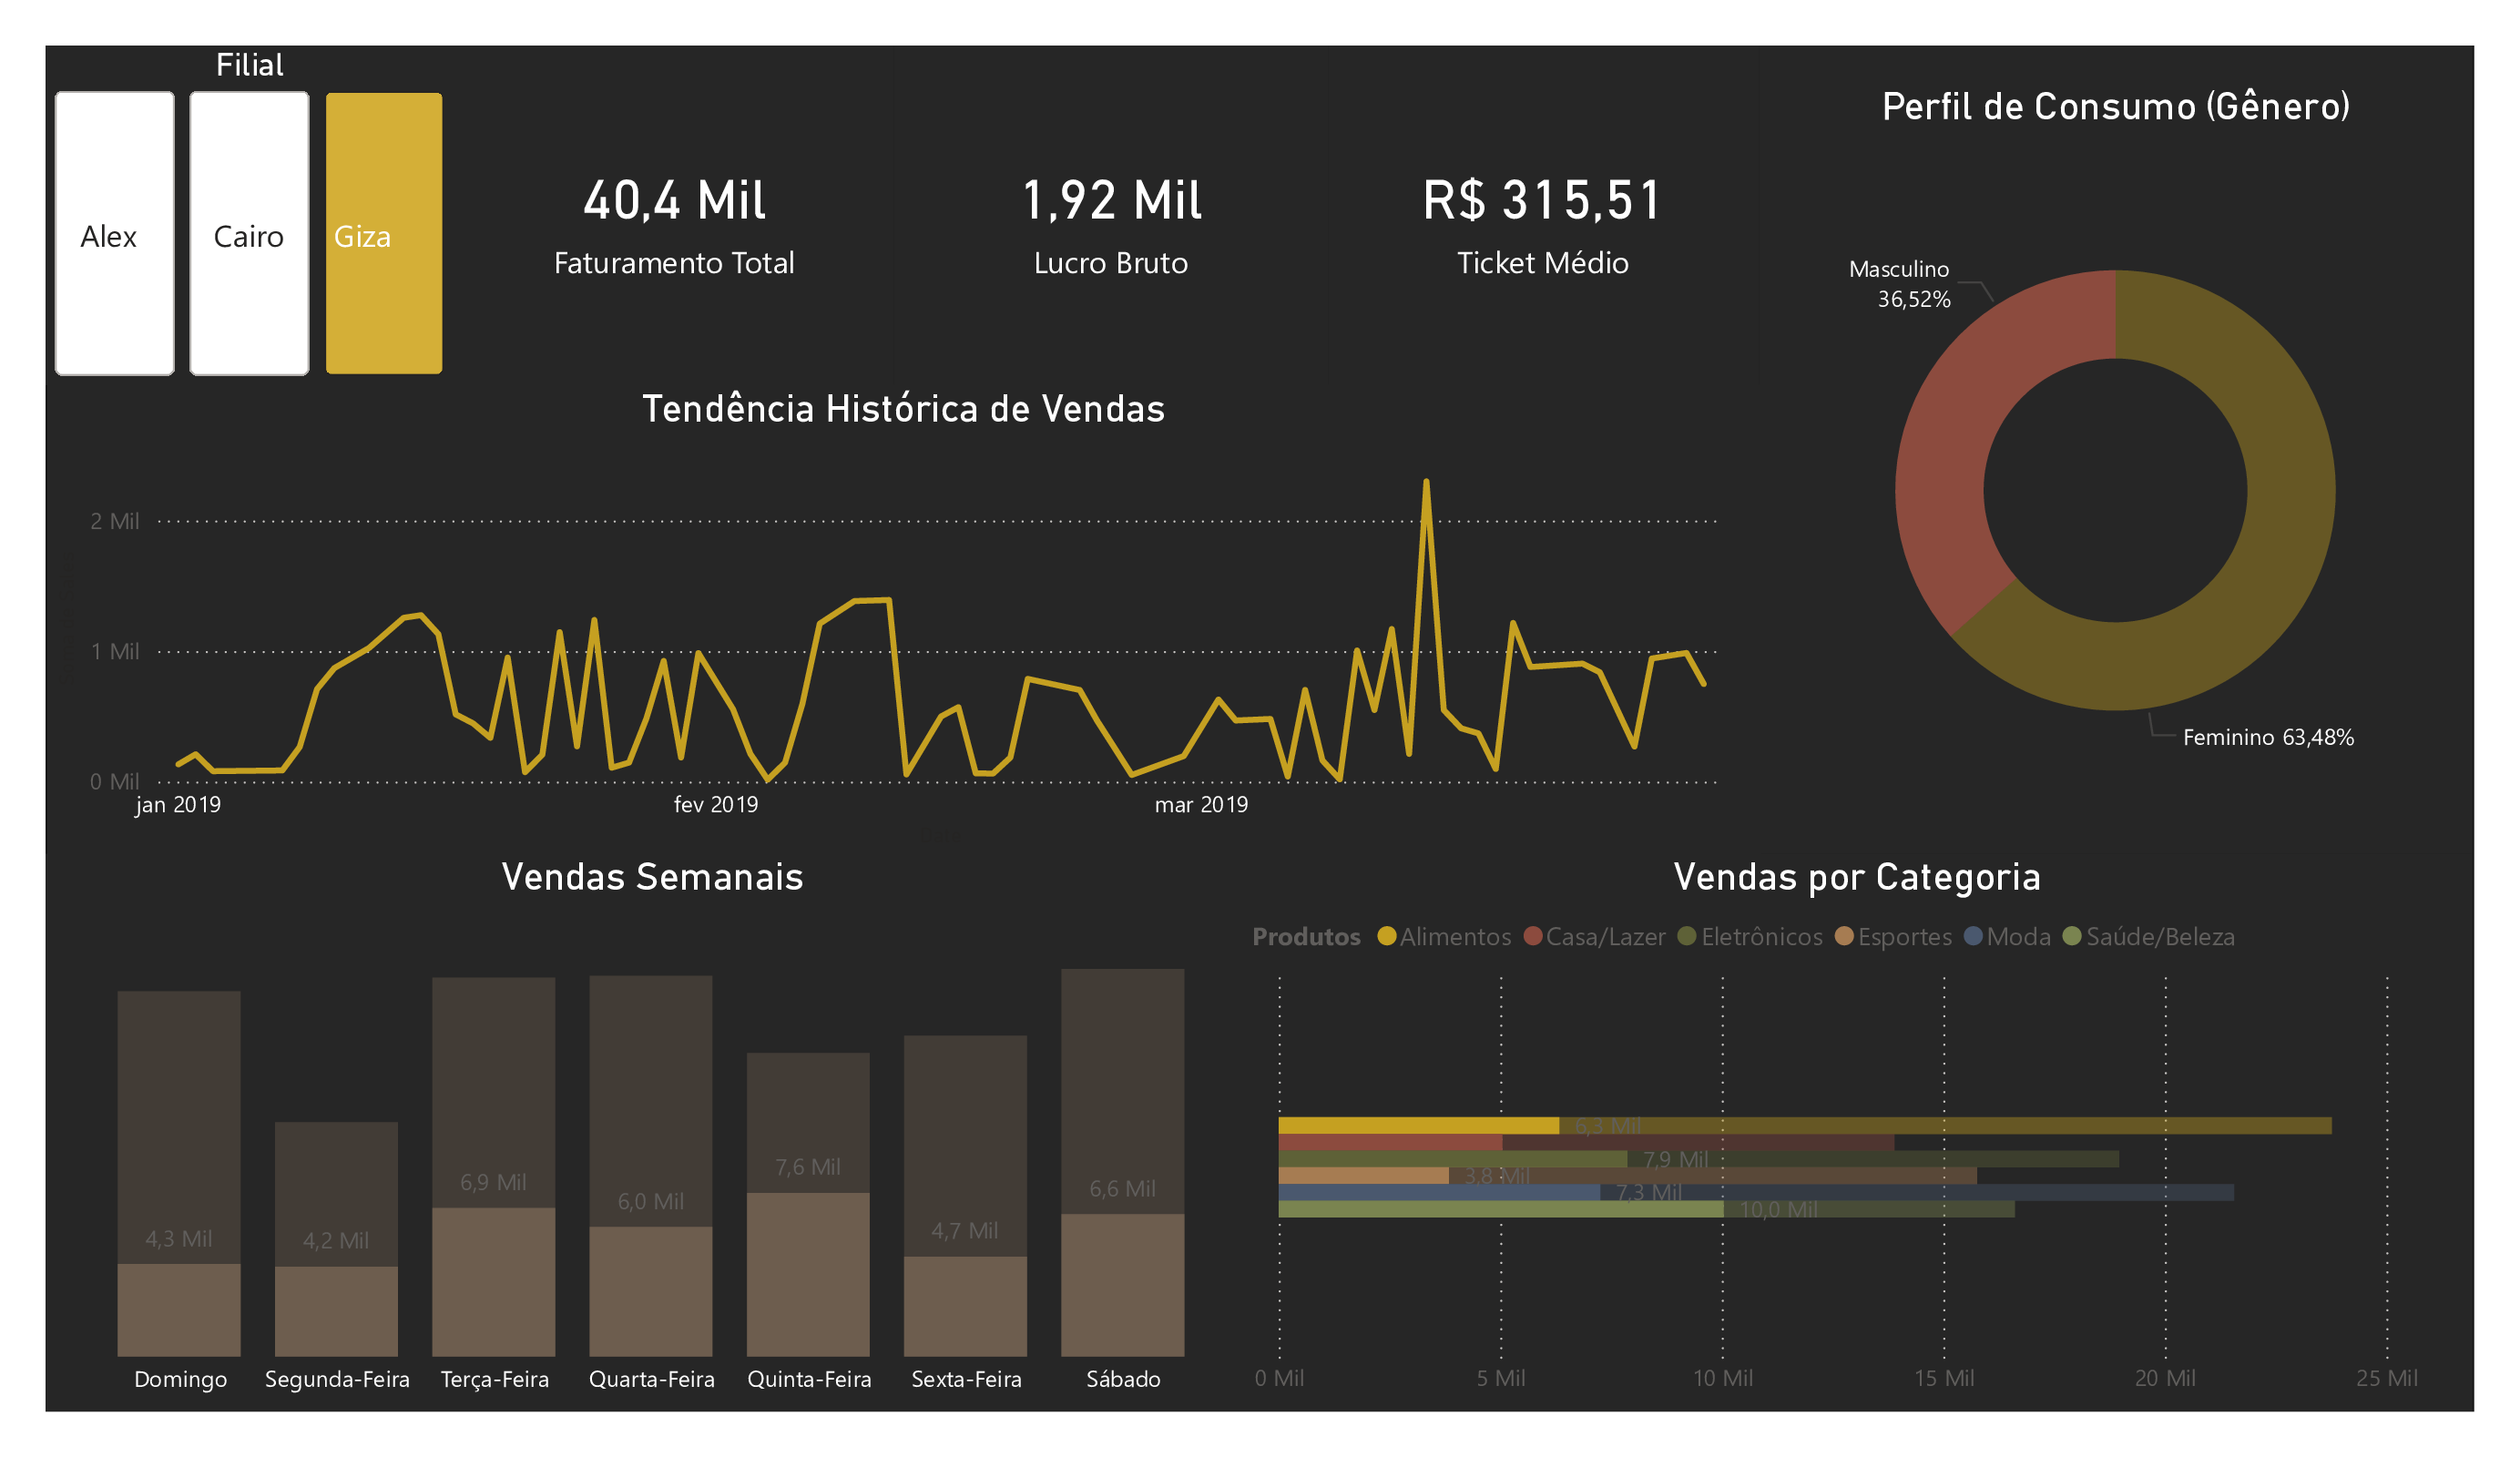

What the dashboard file says about the page in this screenshot:
{"tool":"powerbi","page":{"name":"Página 1","canvas":[1280,720],"ordinal":0},"visuals":[{"type":"card","fields":{"Values":["Sum(SuperMarket Analysis.Sales)"]},"box":[215.5,0,231,179.3],"z":0},{"type":"card","fields":{"Values":["Sum(SuperMarket Analysis.gross income)"]},"box":[446.6,0,229.3,179.3],"z":1000},{"type":"columnChart","title":"Vendas Semanais","fields":{"Category":["SuperMarket Analysis.Nome do Dia"],"Y":["Sum(SuperMarket Analysis.Sales)"]},"box":[0,425.9,639.7,294.8],"z":2000},{"type":"clusteredBarChart","title":"Vendas por Categoria","fields":{"Y":["Sum(SuperMarket Analysis.Sales)"],"Series":["SuperMarket Analysis.Product line (grupos)"]},"box":[631,425.9,648.3,294.8],"z":3000},{"type":"donutChart","title":"Perfil de Consumo (Gênero)","fields":{"Category":["SuperMarket Analysis.Gender"],"Y":["Sum(SuperMarket Analysis.Sales)"],"Series":["SuperMarket Analysis.Gender (grupos)"]},"box":[903.4,0,375.9,425.9],"z":4000},{"type":"lineChart","title":"Tendência Histórica de Vendas","fields":{"Y":["Sum(SuperMarket Analysis.Sales)"],"Category":["SuperMarket Analysis.Date"]},"box":[1.4,179.3,902.2,247.2],"z":5000},{"type":"card","fields":{"Values":["Portfólio.Ticket Médio"]},"box":[675.9,0,227.6,179.3],"z":6000},{"type":"advancedSlicerVisual","title":"Filial","fields":{"Values":["SuperMarket Analysis.Branch"]},"box":[0,0,215.5,179.3],"z":7000}]}

Visuals, with their boxes in screenshot pixels (x1, y1, x2, y2):
card - Sum(SuperMarket Analysis.Sales): box=[454, 46, 893, 386]
card - Sum(SuperMarket Analysis.gross income): box=[893, 46, 1328, 386]
"Vendas Semanais" columnChart: box=[46, 853, 1260, 1411]
"Vendas por Categoria" clusteredBarChart: box=[1243, 853, 2474, 1411]
"Perfil de Consumo (Gênero)" donutChart: box=[1760, 46, 2474, 853]
"Tendência Histórica de Vendas" lineChart: box=[48, 386, 1760, 855]
card - Portfólio.Ticket Médio: box=[1328, 46, 1760, 386]
"Filial" advancedSlicerVisual: box=[46, 46, 454, 386]
